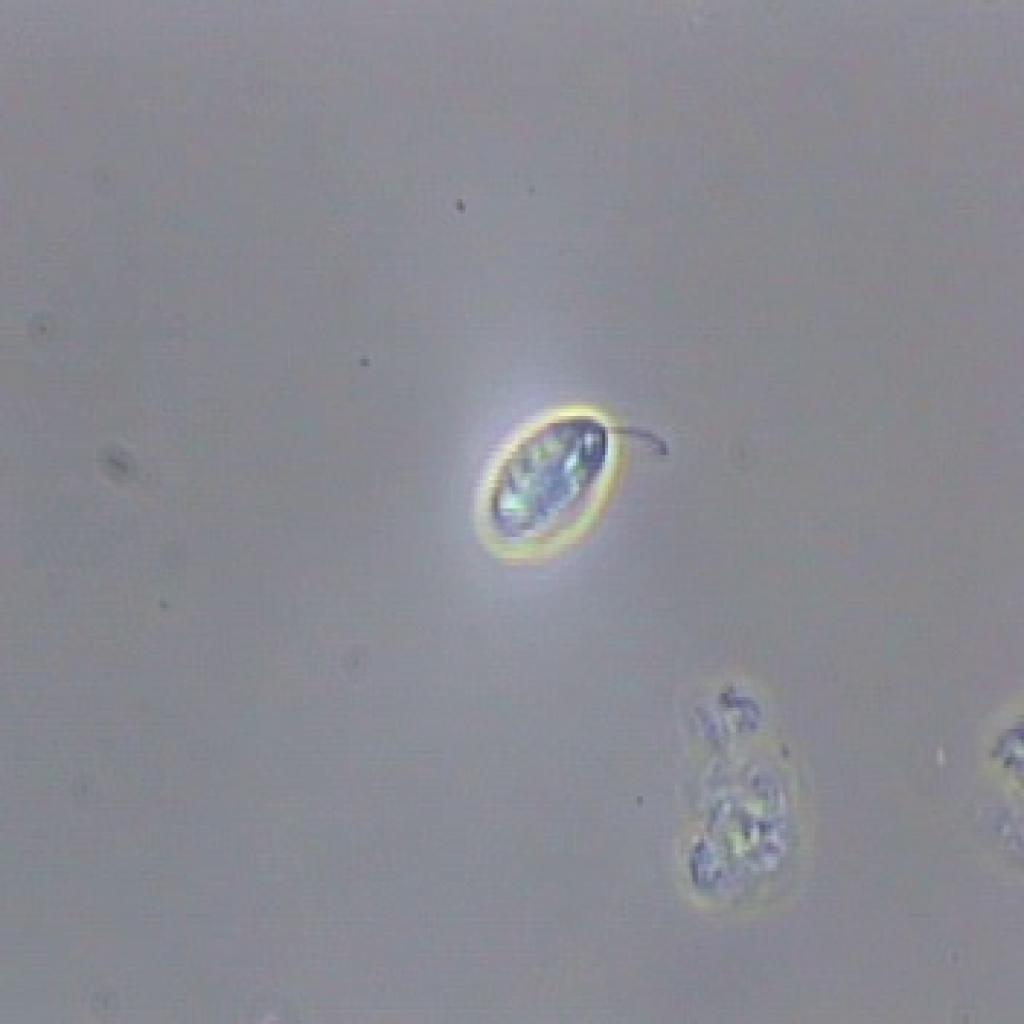Flagellates: (412, 359, 694, 594)
